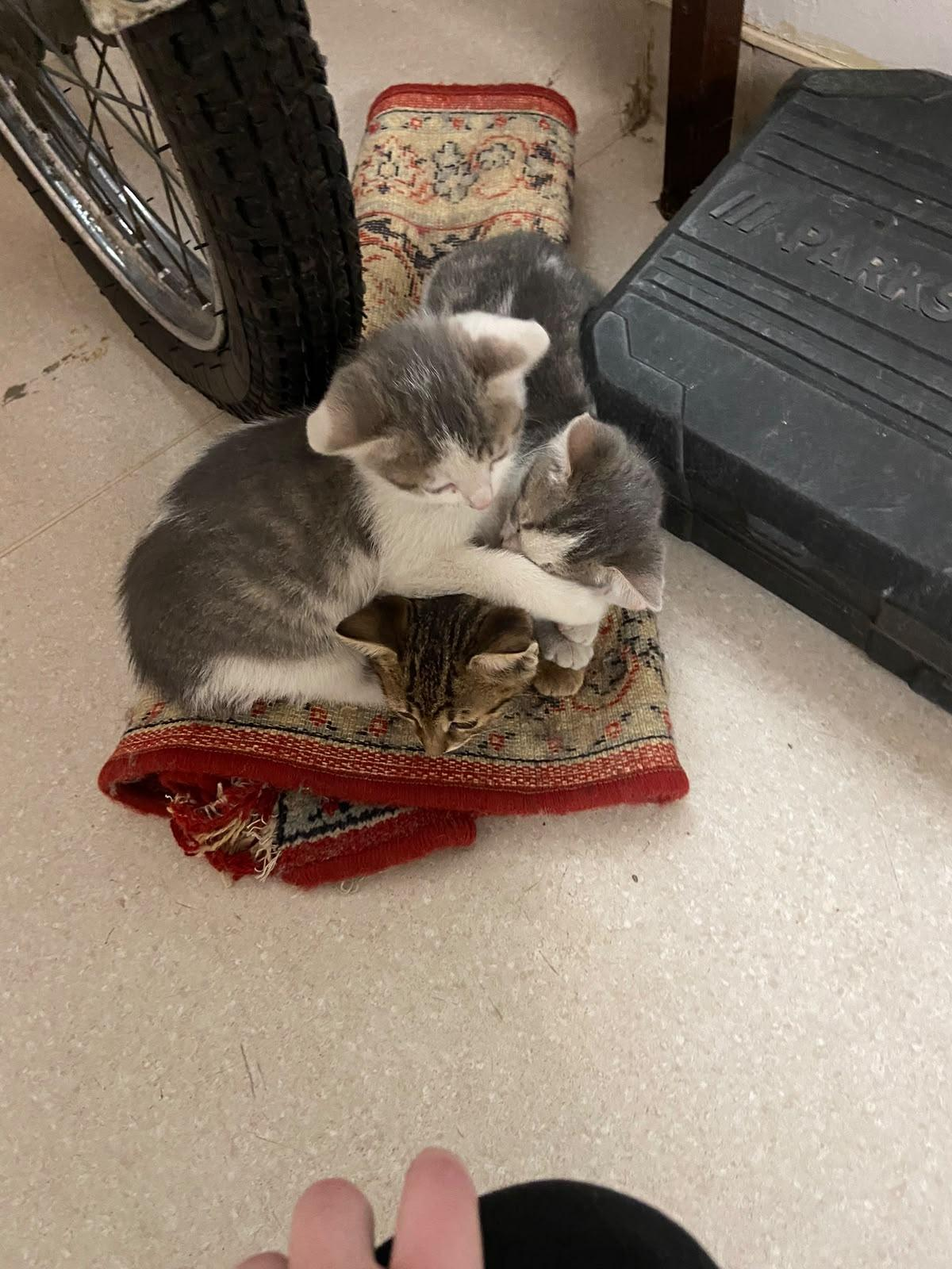macka: (121, 312, 616, 709), (419, 232, 666, 612), (333, 593, 585, 760)
